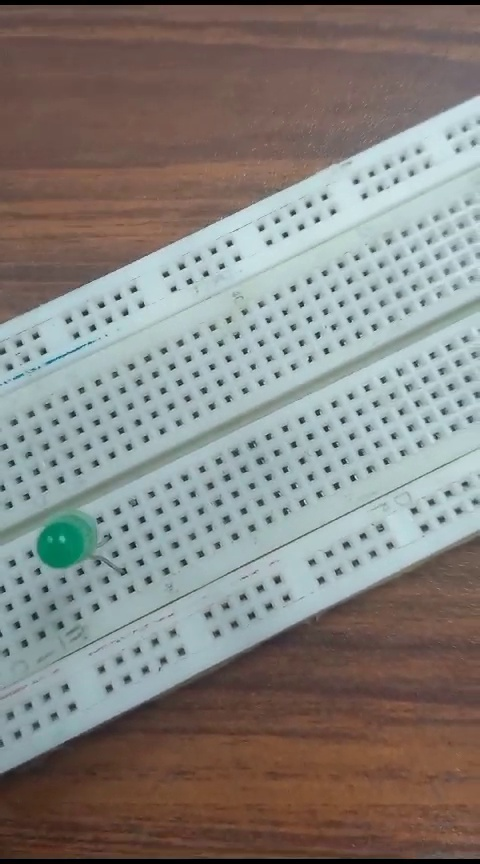LED: (23, 512, 122, 577)
